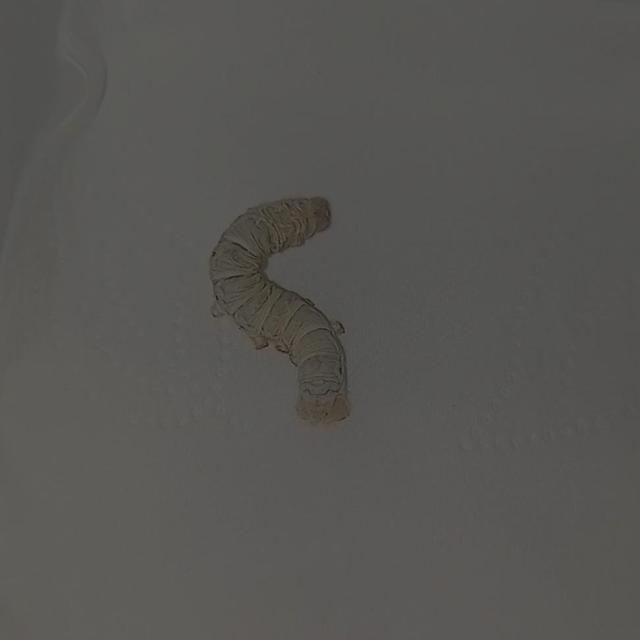Healthy: (198, 184, 370, 444)
